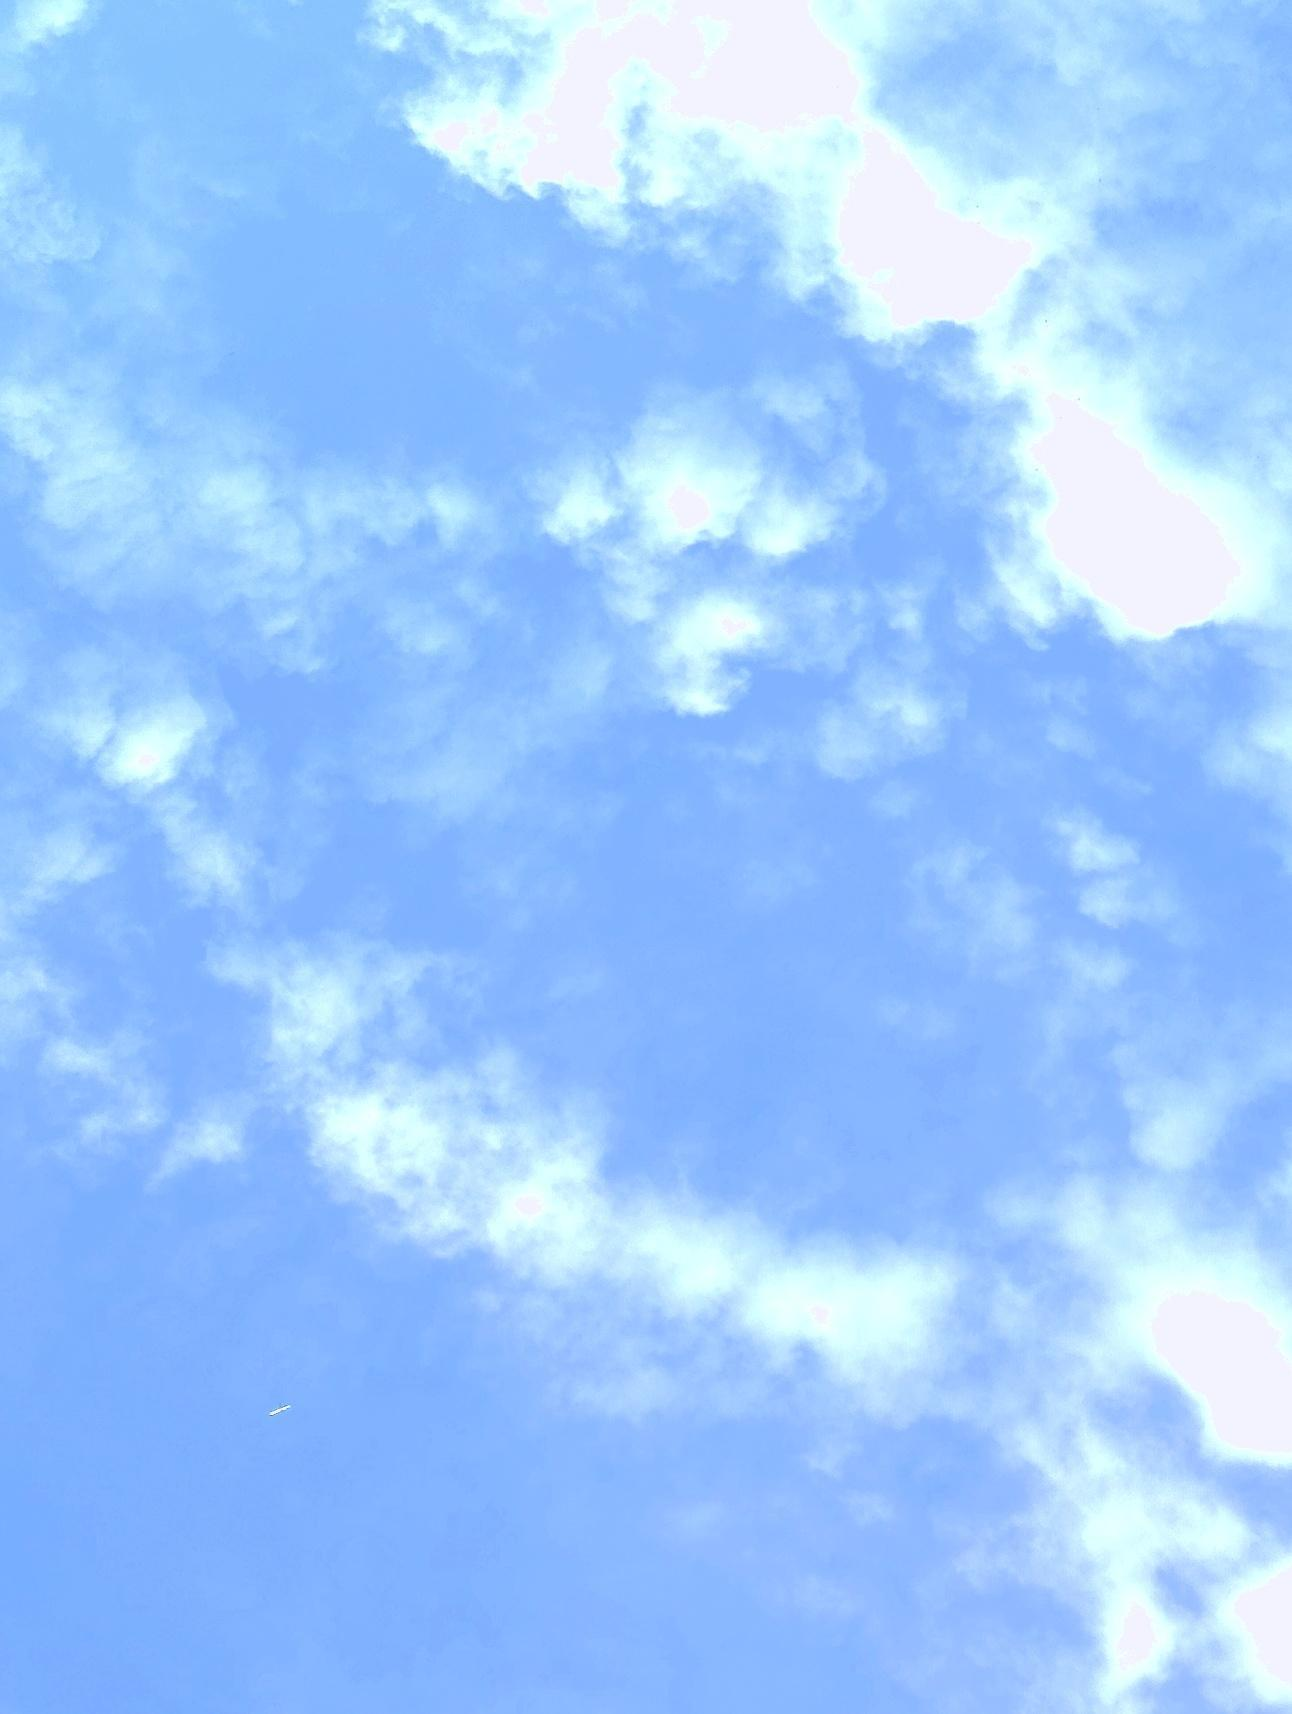Plane: (251, 1387, 323, 1437)
